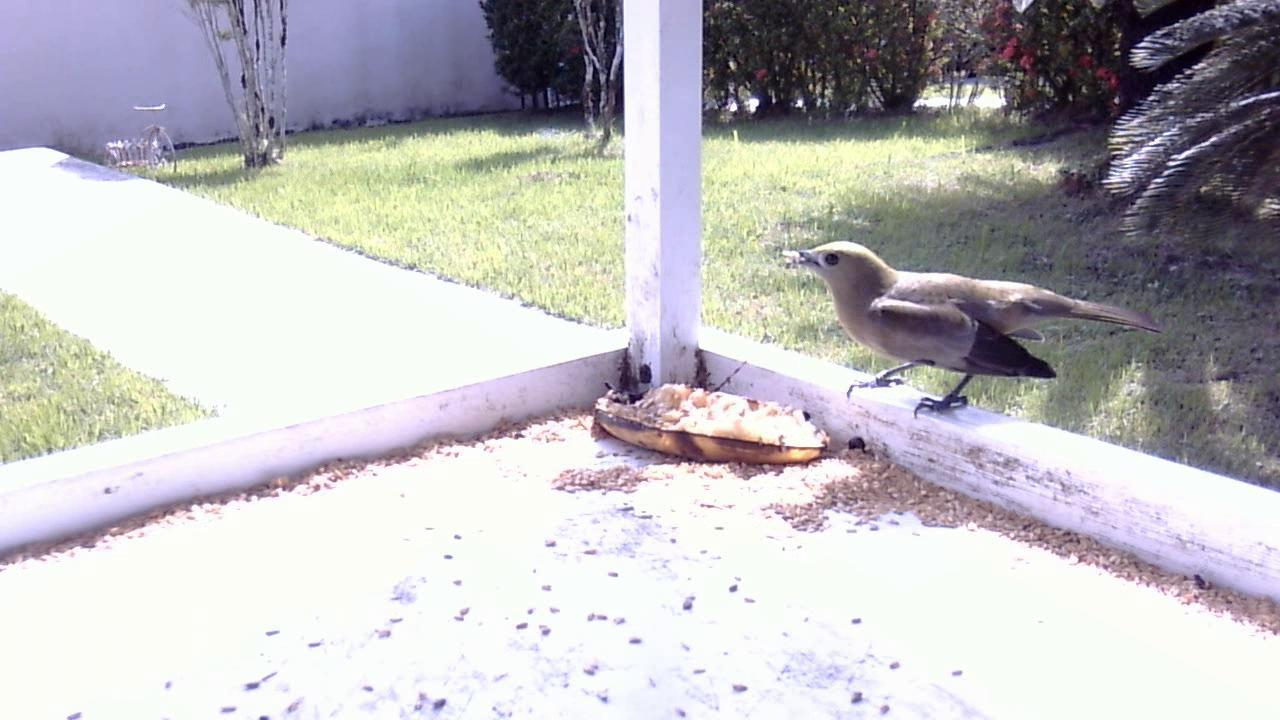sanhaco_do_coqueiro: (767, 228, 1166, 437)
